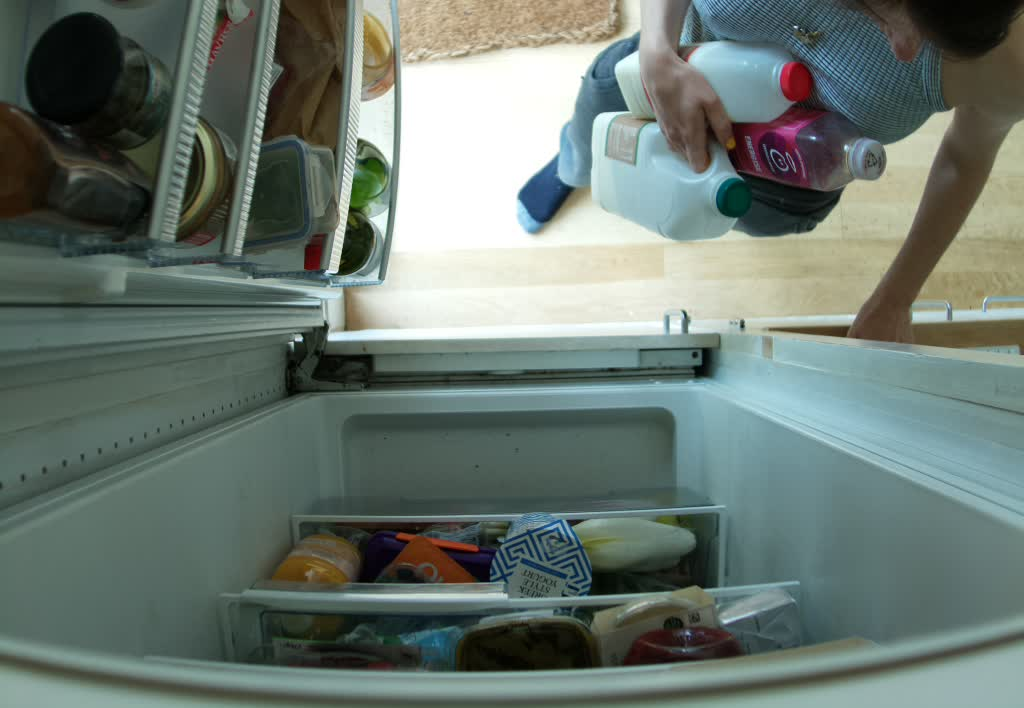juice: (726, 119, 887, 194)
milk: (589, 105, 754, 243), (615, 45, 819, 122)
